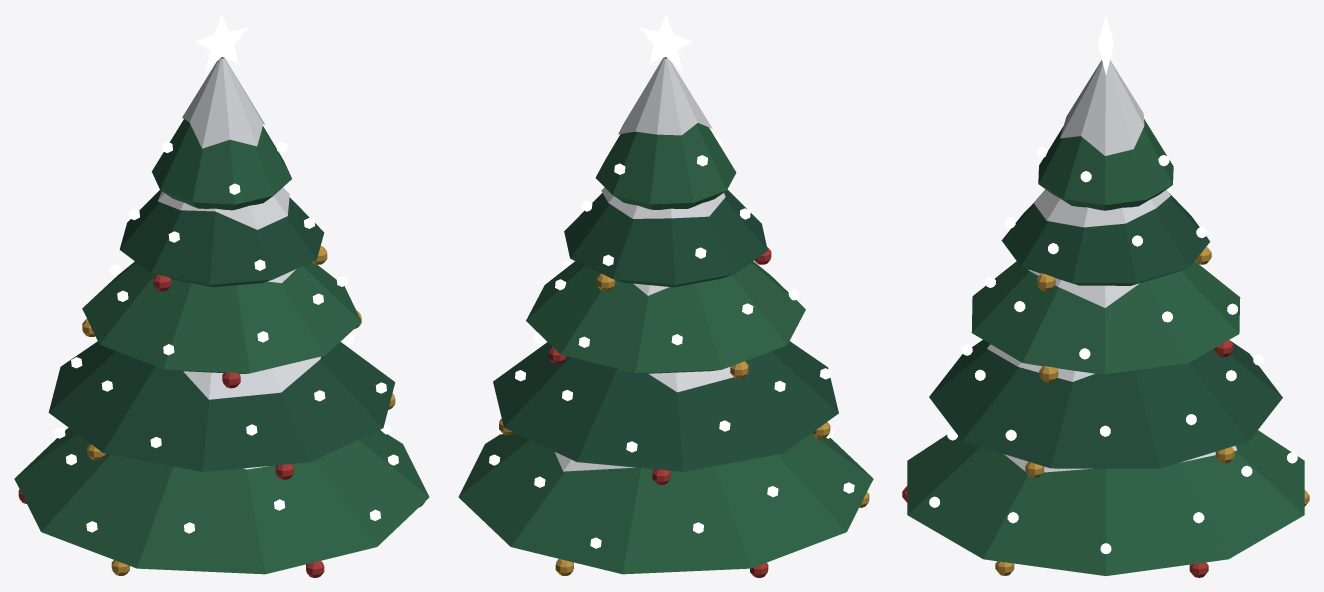
The model's file is xmas-tree-large.glb.
3 views of the same model, side by side, from view 1: azimuth 30°, elevation 25°; view 2: azimuth 150°, elevation 25°; view 3: azimuth 270°, elevation 25° (orthographic).
Parts seen in each view (by area): view 1: xmas-tree-large; view 2: xmas-tree-large; view 3: xmas-tree-large.
Boxes of the visible parts, x1,y1,x2,y2 form: xmas-tree-large: [14, 14, 429, 577]; xmas-tree-large: [458, 14, 873, 577]; xmas-tree-large: [902, 15, 1309, 577].
Size of the model in its own units: 4.6 by 6.51 by 4.49.
